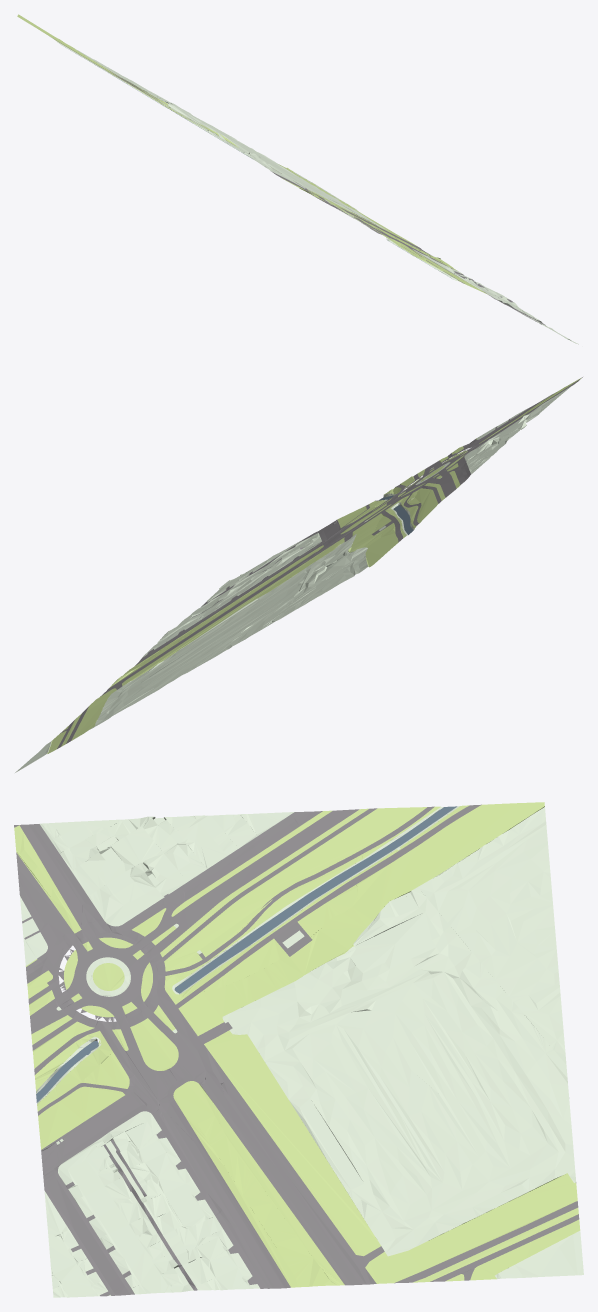
The picture shows the model from 3 angles, top to bottom: view 1: azimuth 30°, elevation 25°; view 2: azimuth 150°, elevation 25°; view 3: azimuth 270°, elevation 25°; orthographic projection. The views are drawn at different scales.
Bounding box in the file's own units: 219 × 156 × 268.
